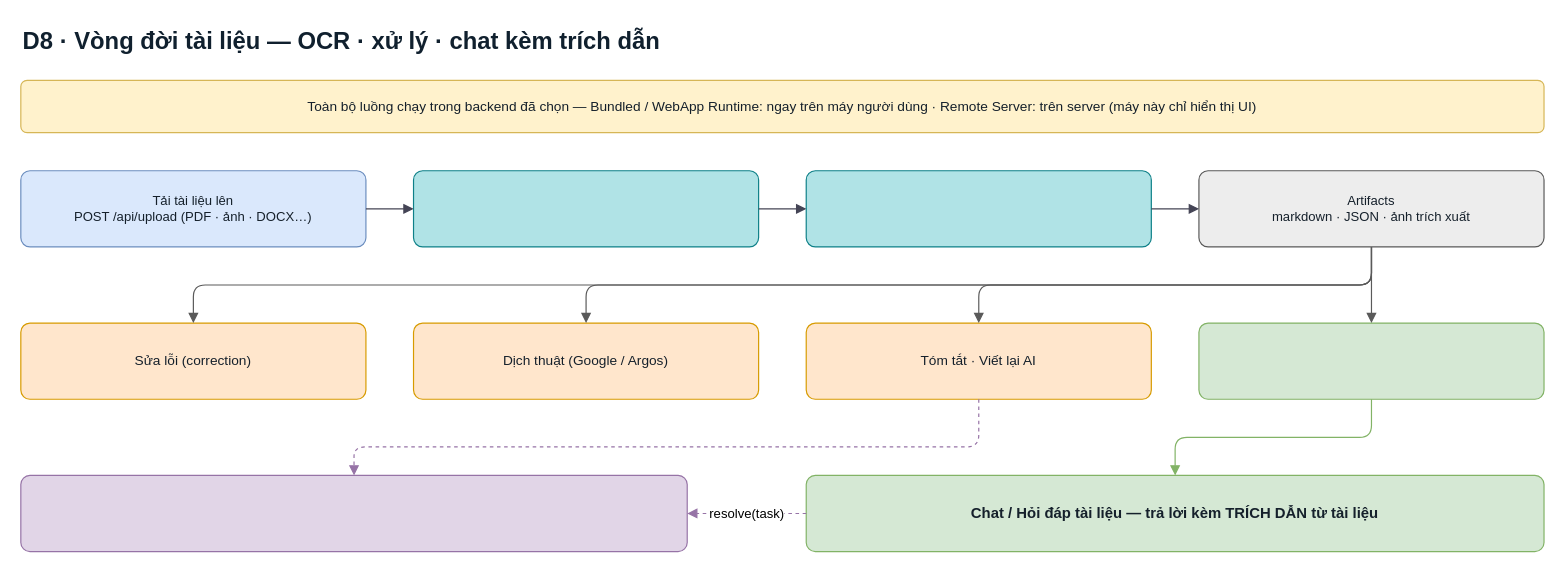
Image size: 1565x572. Some labels were removed from this diagram. The centre of each missing label's shape, as x and y in pixels:
LLM qua Model Router (Chat/QA · Tóm tắt · Viết lại — theo Cài đặt AI models): (353,513)
OCR engine PaddleOCR (legacy · modern) VietOCR · GLM-OCR: (585,208)
RAG index SBERT / hashing + FAISS: (1371,360)
Trích xuất cấu trúc markdown · bảng · bố cục: (978,208)
